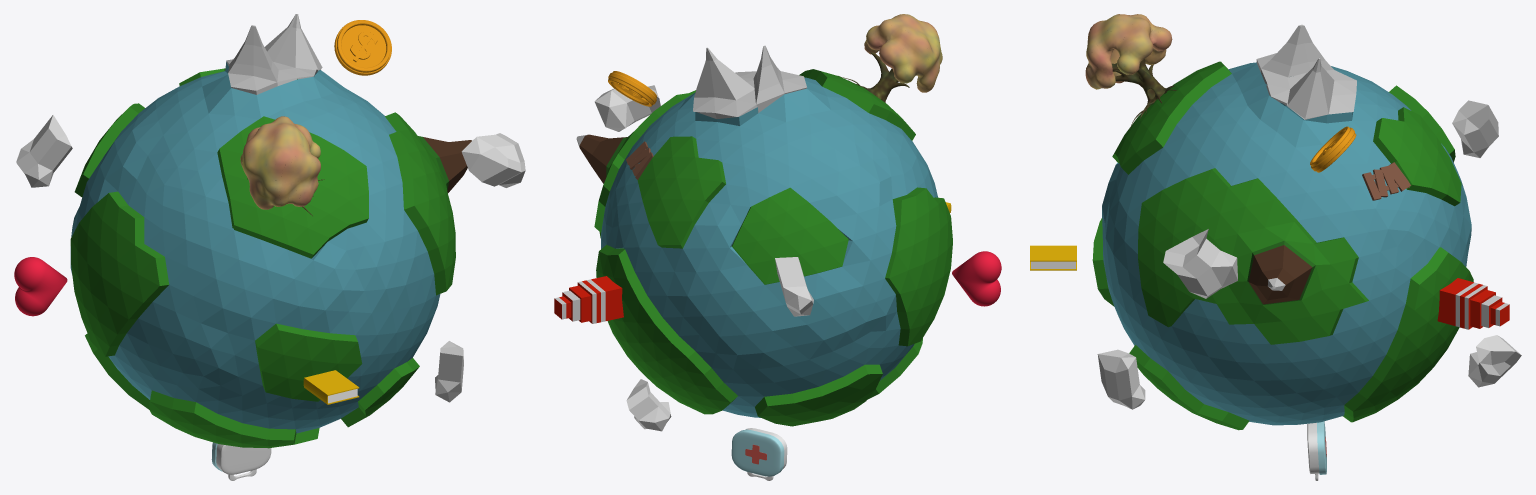
The model's file is world-final.glb.
3 views of the same model, side by side, from view 1: azimuth 30°, elevation 25°; view 2: azimuth 150°, elevation 25°; view 3: azimuth 270°, elevation 25° (orthographic). The views are drawn at different scales.
Visible parts, largest first — view 1: Earth, green_1, Icosphere.002_Icosphere.003, Coin, Icosphere.004_Icosphere.005, Plane.001, Cube.003, Icosphere.001_Icosphere.002, Plane; view 2: Earth, green_1, Building, Cube.003, Plane.001, Icosphere.002_Icosphere.003, Icosphere.004_Icosphere.005, Icosphere.003_Icosphere.004, Coin, trunk_0, Cube_Cube.003; view 3: Earth, green_1, Icosphere.002_Icosphere.003, Building, Icosphere.001_Icosphere.002, Icosphere.004_Icosphere.005, Icosphere.003_Icosphere.004, Cube_Cube.003, trunk_0, Cube.003, Coin, Plane.
Boxes of the visible parts, <box> form: Earth: <box>70,14,472,448</box>; green_1: <box>240,116,320,209</box>; Icosphere.002_Icosphere.003: <box>461,133,525,187</box>; Coin: <box>334,20,391,75</box>; Icosphere.004_Icosphere.005: <box>16,115,72,187</box>; Plane.001: <box>14,257,67,316</box>; Cube.003: <box>211,442,271,480</box>; Icosphere.001_Icosphere.002: <box>435,341,463,402</box>; Plane: <box>303,370,359,404</box>; Earth: <box>576,45,952,426</box>; green_1: <box>864,14,942,92</box>; Building: <box>554,276,623,323</box>; Cube.003: <box>731,428,787,480</box>; Plane.001: <box>952,251,1001,306</box>; Icosphere.002_Icosphere.003: <box>594,85,660,131</box>; Icosphere.004_Icosphere.005: <box>775,257,813,316</box>; Icosphere.003_Icosphere.004: <box>626,379,671,431</box>; Coin: <box>608,71,656,106</box>; trunk_0: <box>839,52,909,102</box>; Cube_Cube.003: <box>626,141,653,179</box>; Earth: <box>1092,24,1473,430</box>; green_1: <box>1085,14,1172,89</box>; Icosphere.002_Icosphere.003: <box>1163,229,1237,298</box>; Building: <box>1437,278,1509,329</box>; Icosphere.001_Icosphere.002: <box>1097,349,1145,409</box>; Icosphere.004_Icosphere.005: <box>1452,100,1498,157</box>; Icosphere.003_Icosphere.004: <box>1468,335,1521,387</box>; Cube_Cube.003: <box>1362,162,1410,200</box>; trunk_0: <box>1112,59,1176,129</box>; Cube.003: <box>1307,421,1326,480</box>; Coin: <box>1310,126,1356,172</box>; Plane: <box>1030,245,1076,270</box>.
Size of the model in its own units: 2.9 by 2.73 by 2.69.
Materials: 18 (3 with a texture image).
